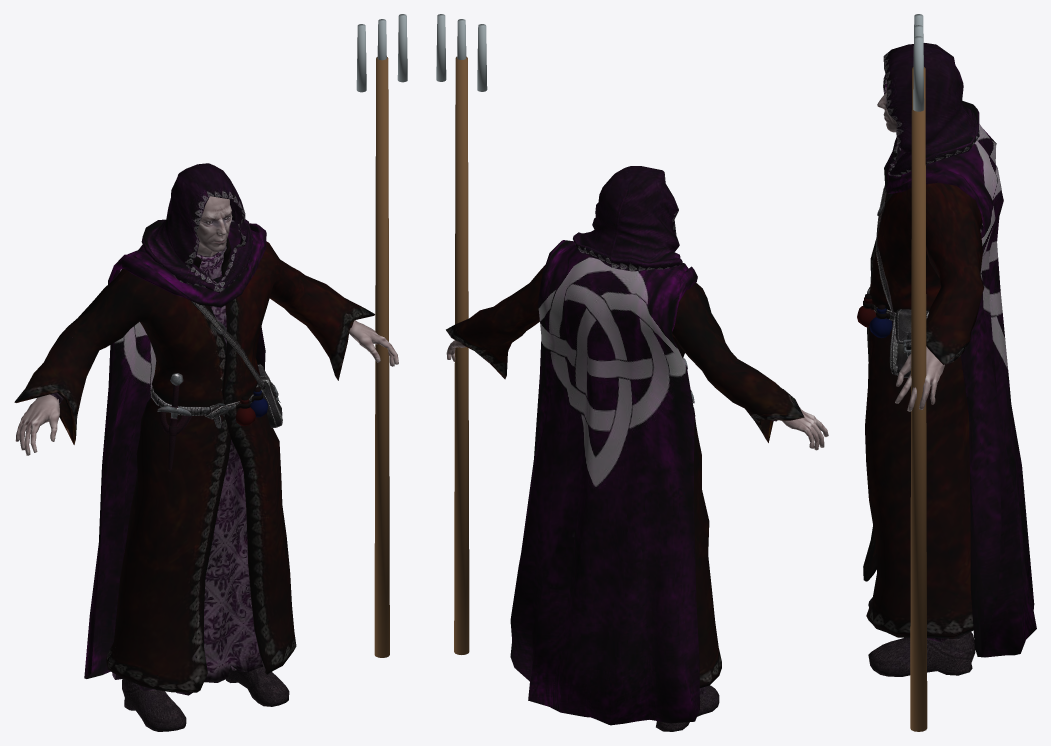
Rendered from actor-peasant.glb.
The picture shows the model from 3 angles, left to right: view 1: azimuth 30°, elevation 25°; view 2: azimuth 150°, elevation 25°; view 3: azimuth 270°, elevation 25°; orthographic projection. The views are drawn at different scales.
Visible parts, largest first — view 1: mage · posed; view 2: mage · posed; view 3: mage · posed.
Part boxes in pixels (box(x1,y1,x2,y2)): mage · posed: box(14, 14, 407, 731); mage · posed: box(436, 14, 828, 731); mage · posed: box(857, 14, 1036, 731).
Size of the model in its own units: 1.5 by 2.39 by 0.5488.
3 materials, 1 textured.
